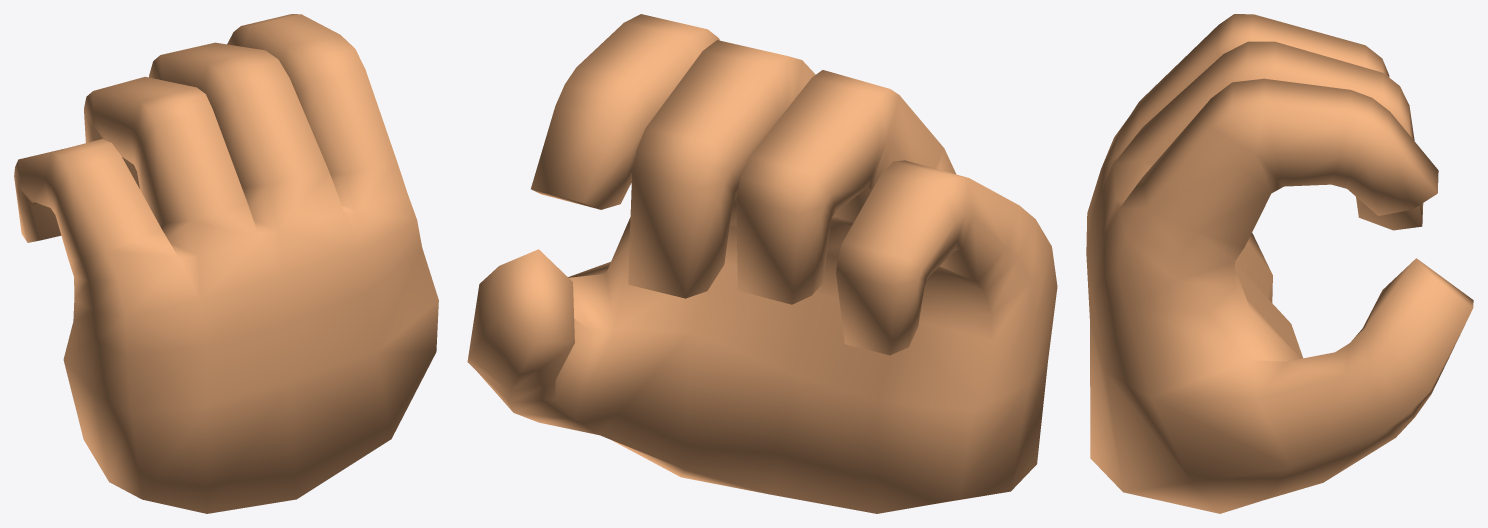
The model's file is hand_grip.FBX.
3 renders of one model, left to right at view 1: azimuth 30°, elevation 25°; view 2: azimuth 150°, elevation 25°; view 3: azimuth 270°, elevation 25°, orthographic. The views are drawn at different scales.
Visible parts, largest first — view 1: HAND; view 2: HAND; view 3: HAND.
Part boxes in pixels (x1,y1,x2,y2): HAND: (14, 14, 438, 513); HAND: (467, 14, 1057, 513); HAND: (1086, 14, 1473, 513).
Bounding box in the file's own units: 24.43 × 24.52 × 20.45.
